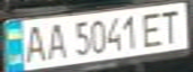0: (87, 16, 109, 55)
1: (121, 11, 142, 50)
4: (106, 15, 127, 52)
5: (69, 17, 90, 57)
A: (18, 21, 51, 64), (42, 20, 69, 61)
E: (139, 8, 169, 47)
T: (154, 6, 187, 44)
